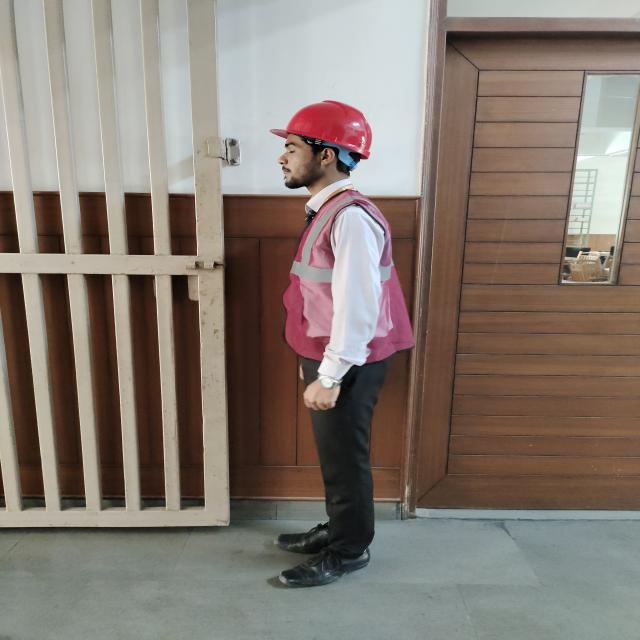safe: (269, 100, 414, 586)
